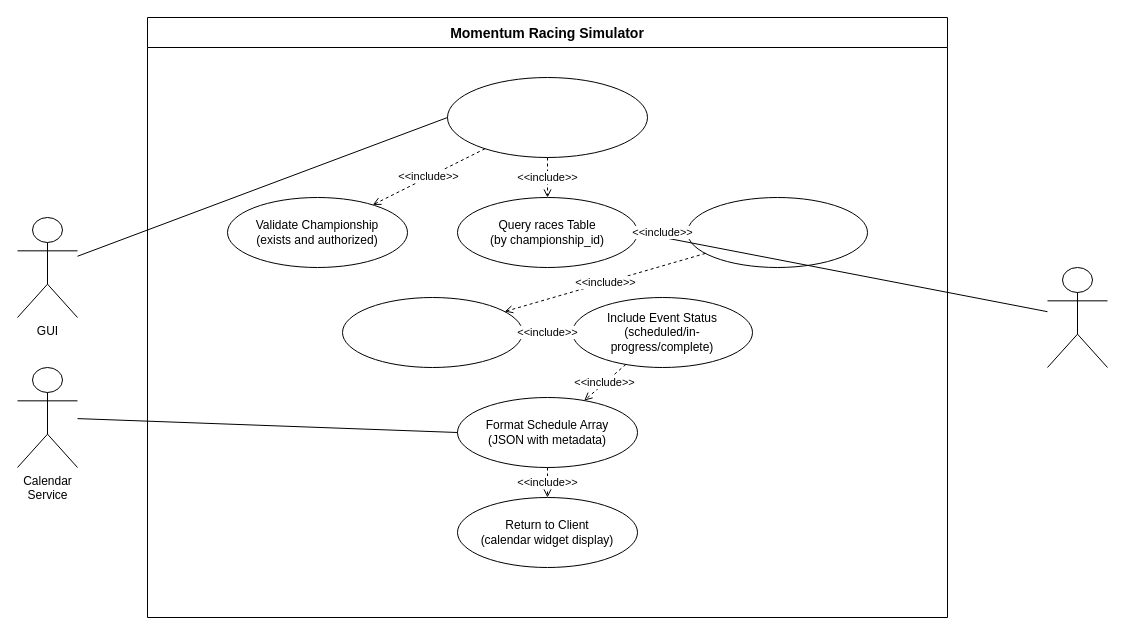
The diagram is 1125 pixels wide and 635 high, and some of its shapes have lost their labels. Here are the shapes that lost their labels. From the top down, the centre of each, then its label:
the point at 547,117: Read Race Schedule
the point at 777,232: Order Events by Date (chronological asc)
the point at 432,332: Join with tracks Table (circuit names, locations)
the point at 1077,317: Database Manager
